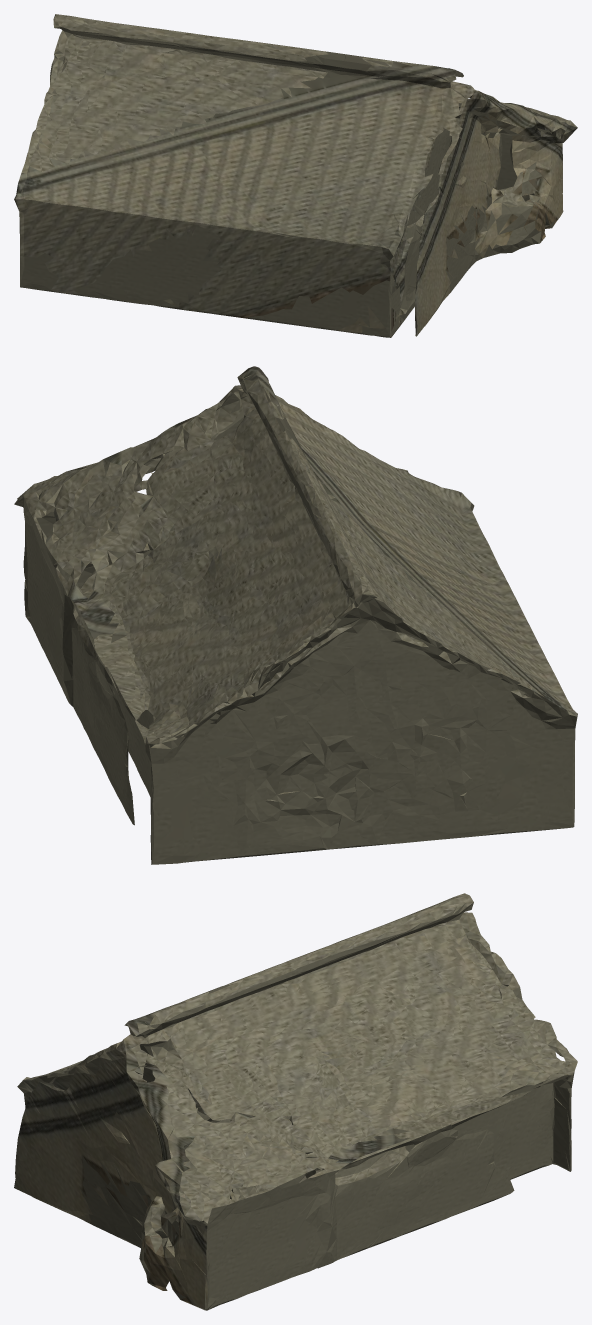
The picture shows the model from 3 angles, top to bottom: view 1: azimuth 30°, elevation 25°; view 2: azimuth 150°, elevation 25°; view 3: azimuth 270°, elevation 25°; orthographic projection. The views are drawn at different scales.
Visible parts, largest first — view 1: painted, roof, wall; view 2: wall, roof, painted; view 3: roof, wall, painted.
Part boxes in pixels (left/top/right/bottom): painted: left=14, top=51, right=577, bottom=336; roof: left=21, top=14, right=577, bottom=313; wall: left=14, top=26, right=563, bottom=337; wall: left=14, top=379, right=577, bottom=864; roof: left=14, top=370, right=575, bottom=801; painted: left=66, top=366, right=577, bottom=716; roof: left=23, top=893, right=577, bottom=1256; wall: left=17, top=902, right=574, bottom=1310; painted: left=14, top=979, right=410, bottom=1308.
Size of the model in its own units: 10.14 by 4 by 9.37.
3 materials, 3 textured.
